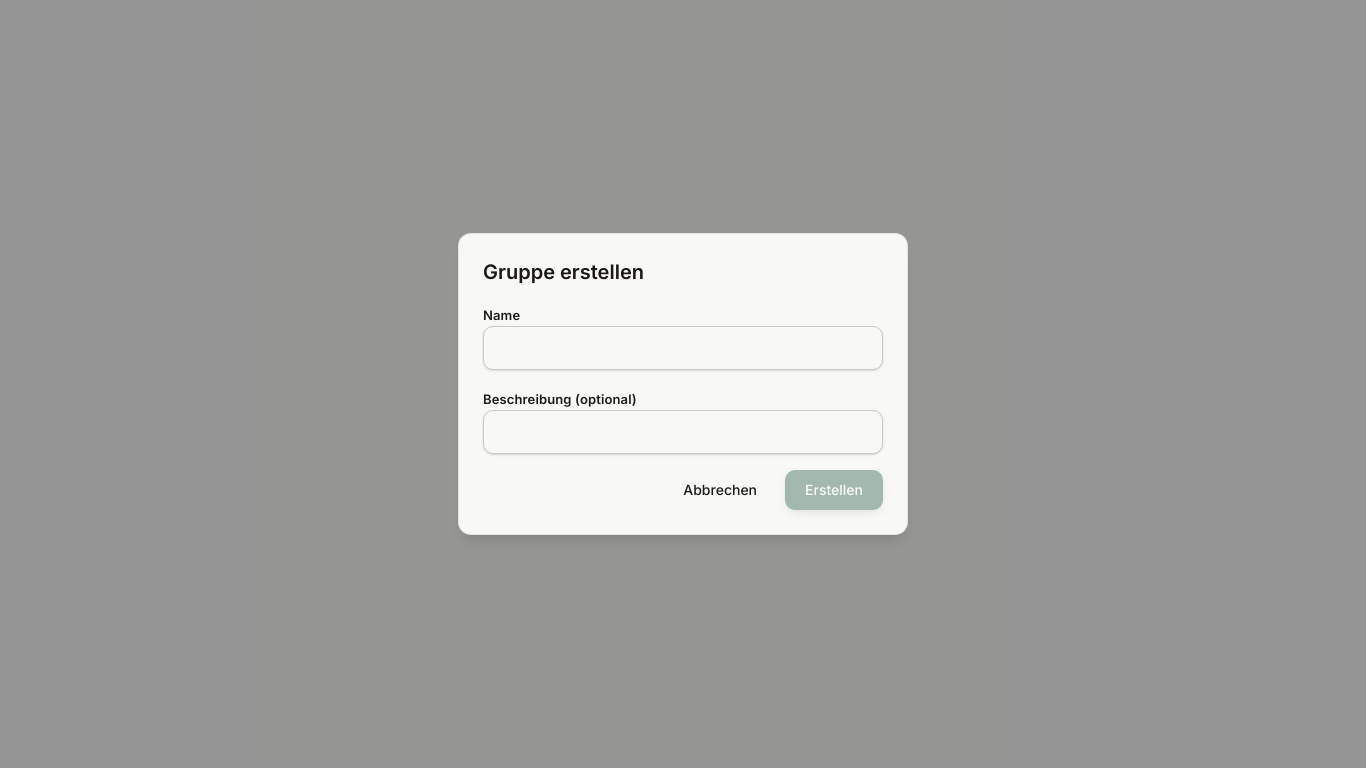
Scenario: <CreateGroupDialog /> › surfaces a generic German fallback on 5xx without leaking raw message
Step 1. Type "X" into the field labelled "Name" → (683, 348), box [483,326,883,370]
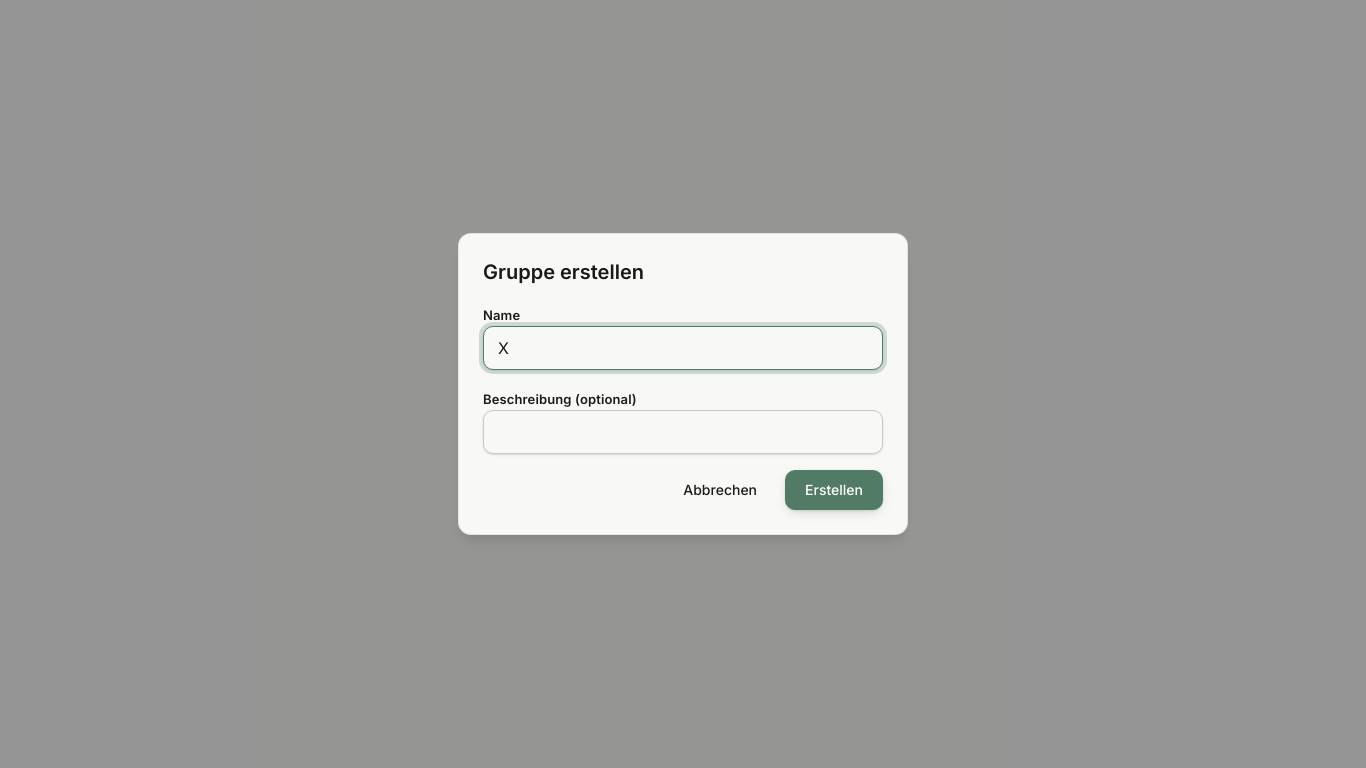
Step 2. Click the button "Erstellen" → (834, 490), box [785,470,883,510]
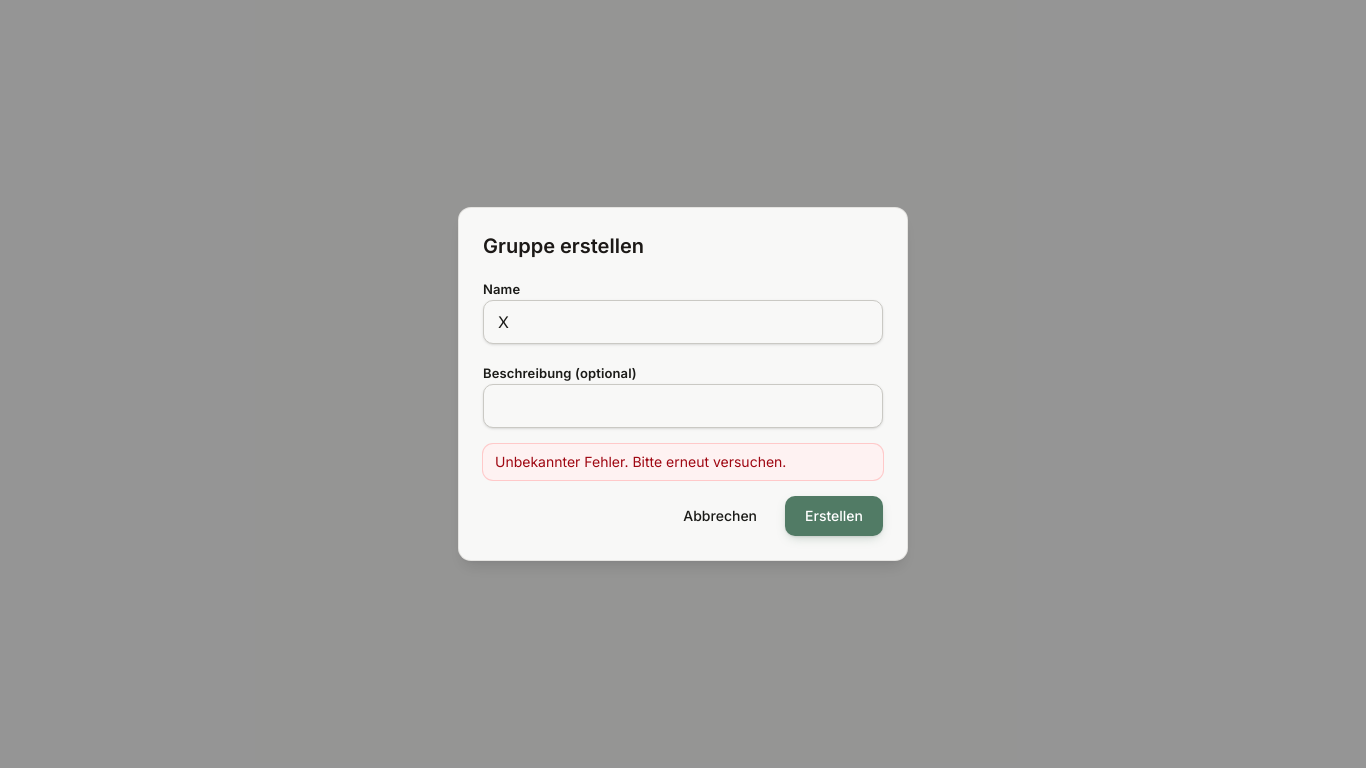
Expected: the message does not show "NullReferenceException", [483,444,883,480]
Expected: the message shows "Unbekannter Fehler", [495,453,786,470]
